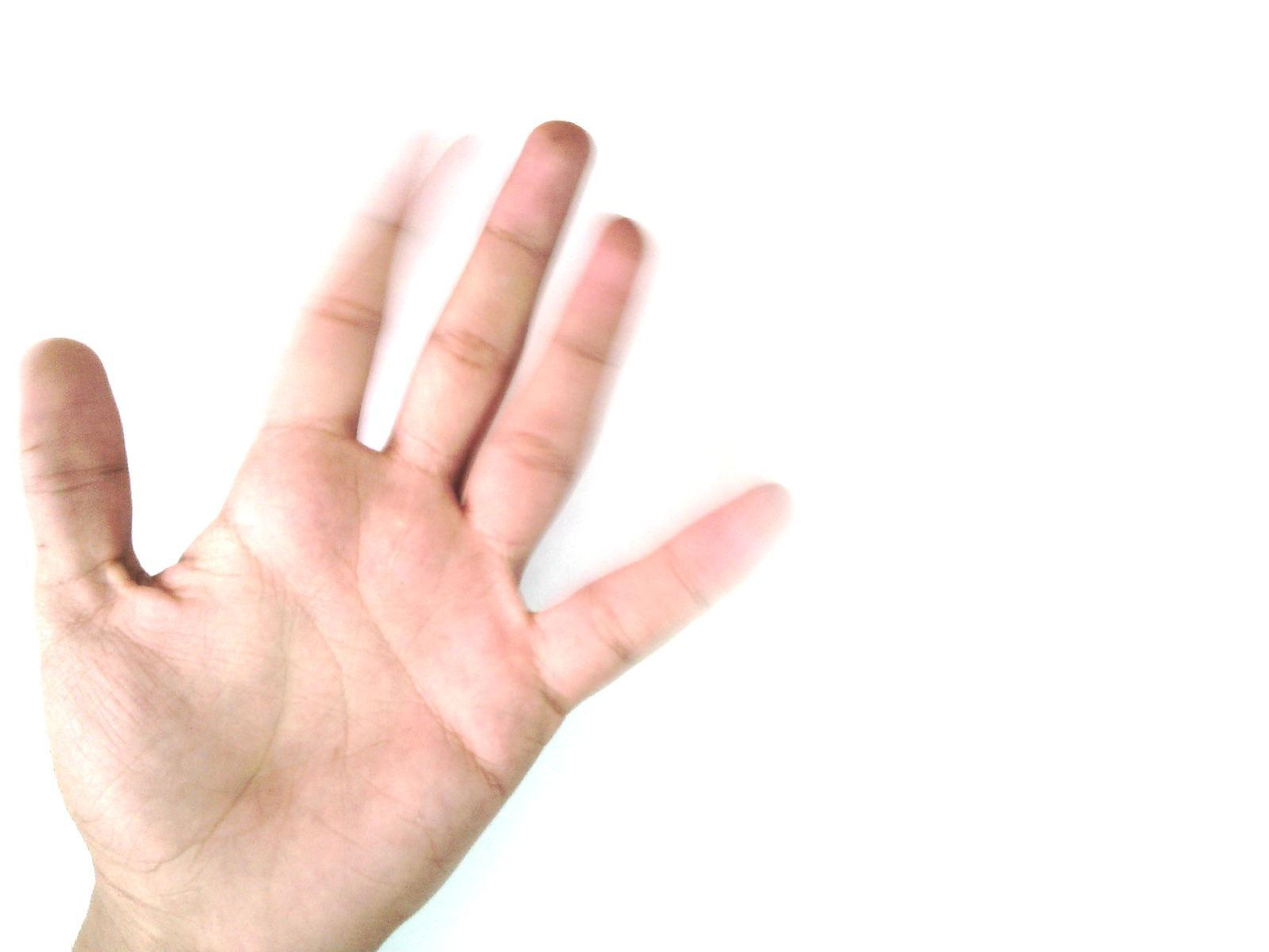open_palm: (17, 118, 796, 951)
